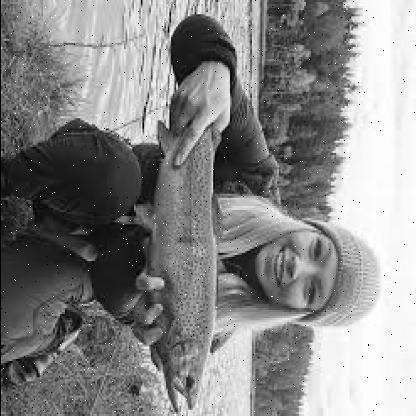fish: (134, 106, 224, 408)
